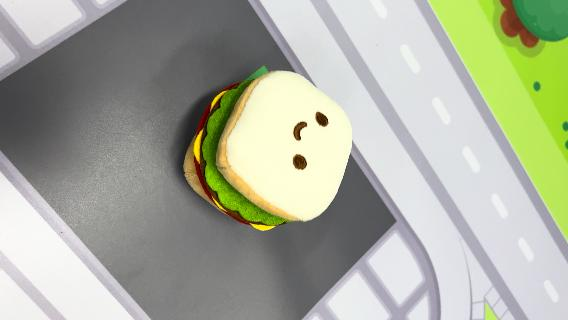sandwich: (182, 66, 356, 232)
